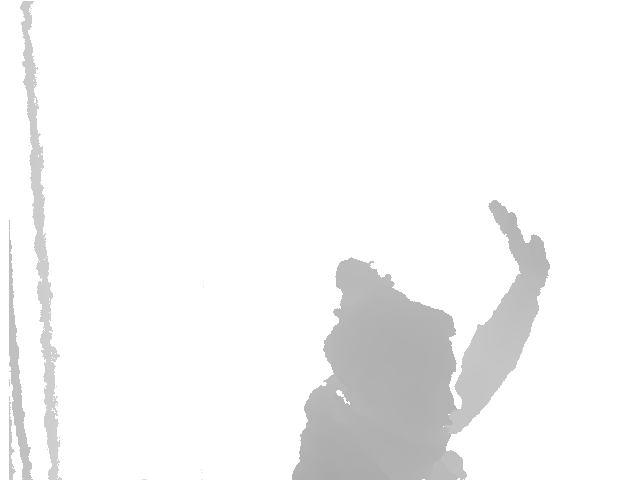hand: (488, 200, 552, 279)
head: (324, 259, 461, 453)
person: (290, 200, 552, 479)
